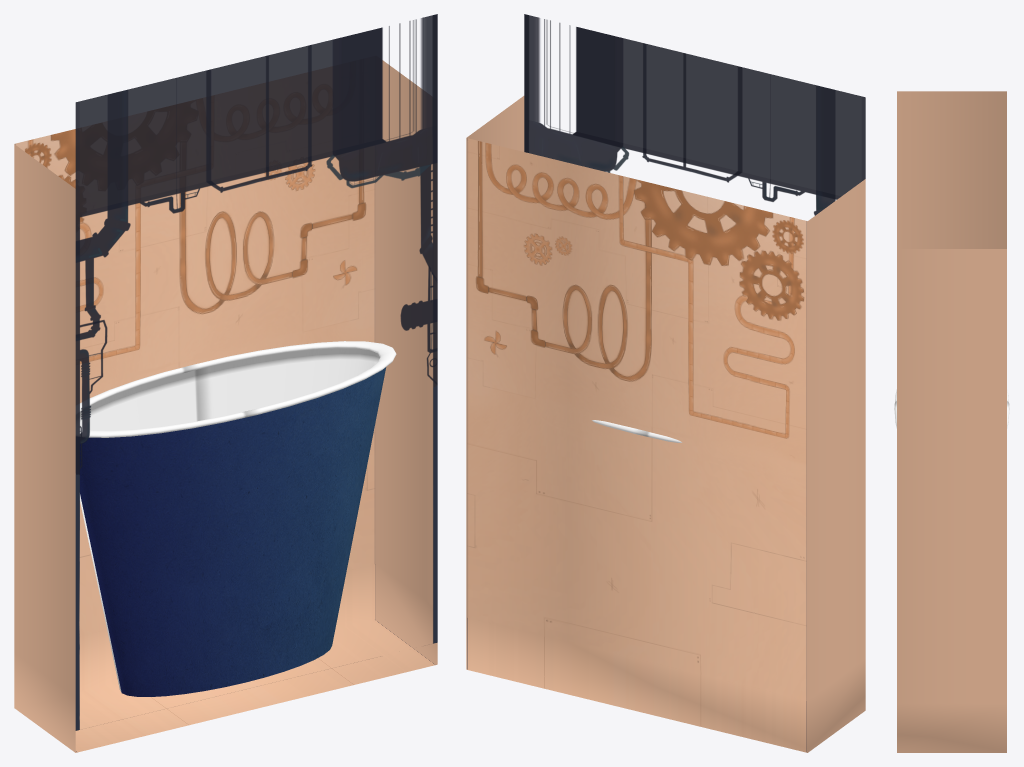
The model's file is bounds.glb.
3 views of the same model, side by side, from view 1: azimuth 30°, elevation 25°; view 2: azimuth 150°, elevation 25°; view 3: azimuth 270°, elevation 25° (orthographic). The views are drawn at different scales.
Parts seen in each view (by area): view 1: Cube, Cylinder, Plane, Cylinder.001; view 2: Cube, Plane; view 3: Cube.
Part boxes in pixels (<box>): Cube: <box>14,60,437,752</box>; Cylinder: <box>79,348,386,696</box>; Plane: <box>75,14,437,730</box>; Cylinder.001: <box>79,341,396,437</box>; Cube: <box>466,96,865,752</box>; Plane: <box>524,14,865,215</box>; Cube: <box>897,91,1006,752</box>.
Size of the model in its own units: 6.81 by 11.69 by 2.1.
4 materials, 4 textured.
